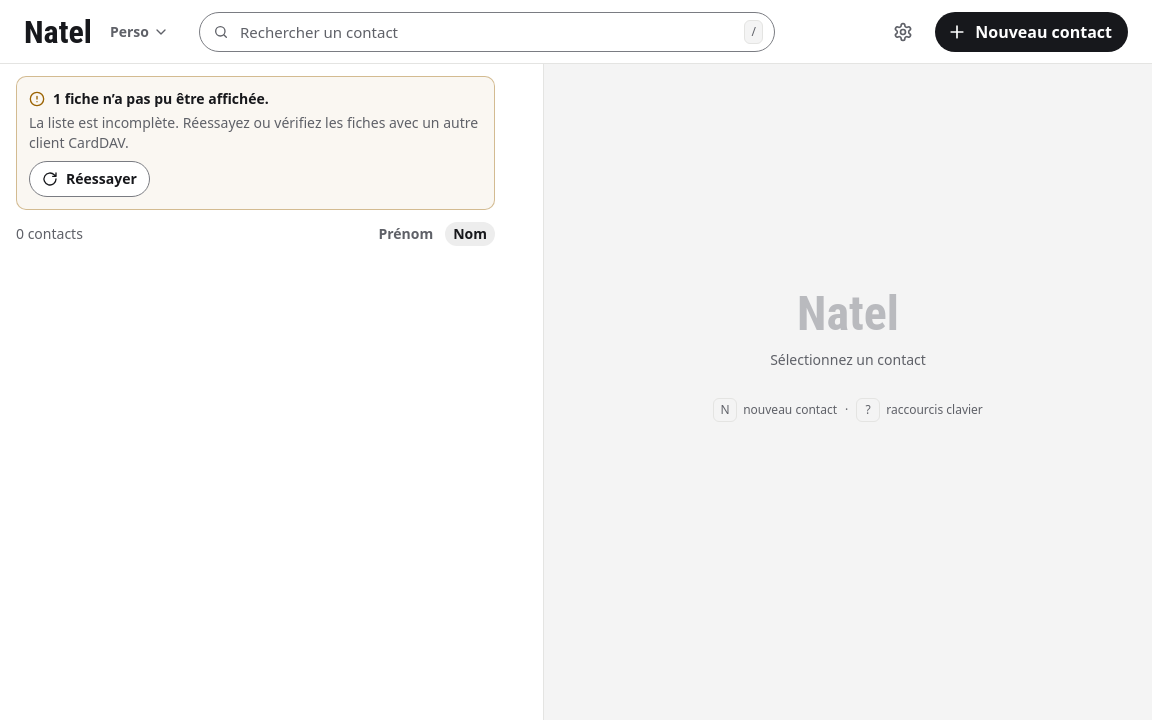
it: incomplete address books › retries the cards when background discovery has failed
This screenshot has width=1152, height=720.
Click the button "Réessayer" at point(89, 179), box [29, 161, 150, 197]
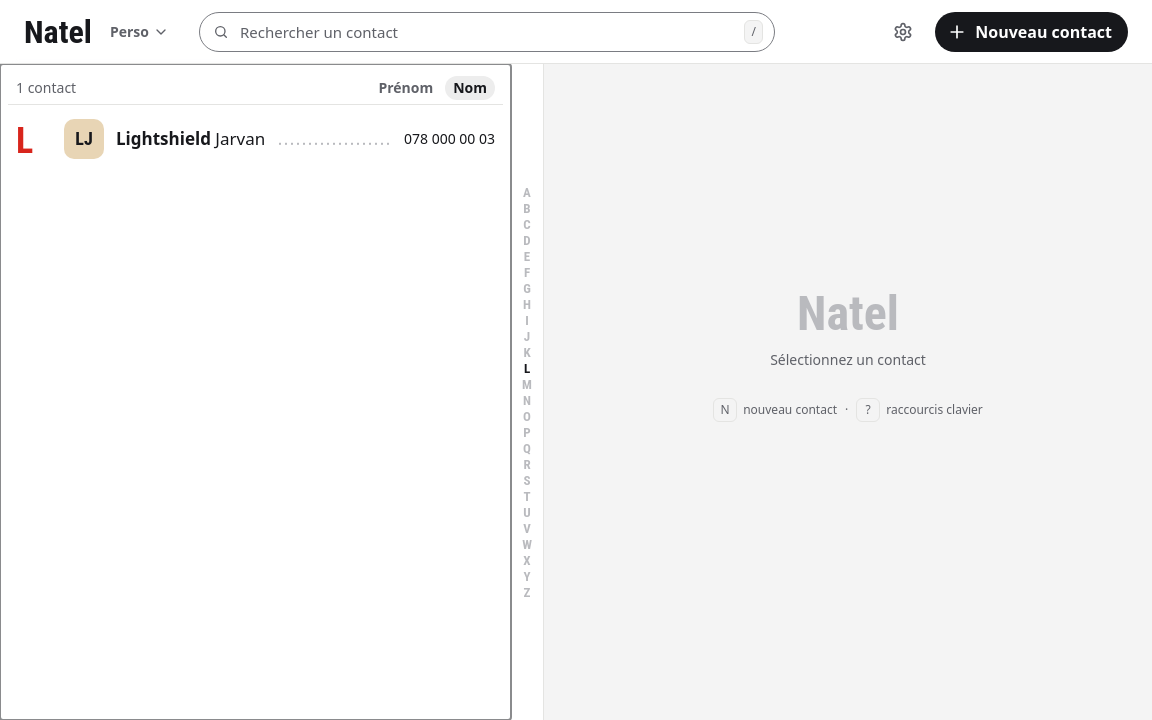
Check: the link "LJ Lightshield Jarvan 078 000 00 03" is shown, box [56, 113, 503, 165]
